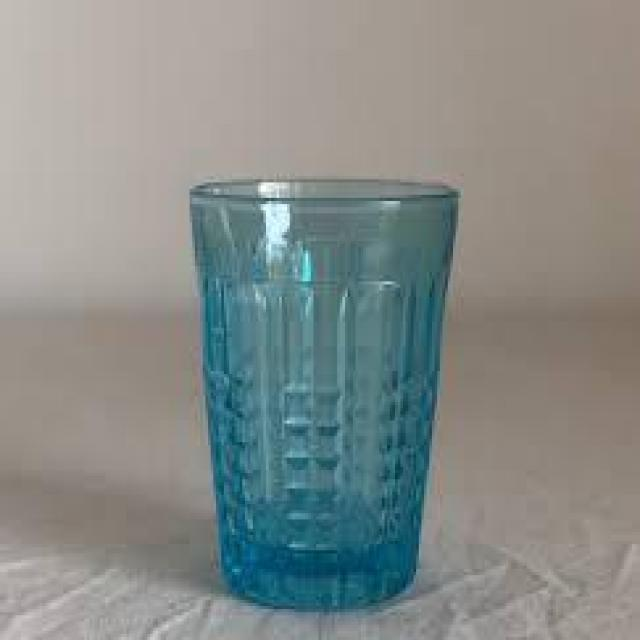glass: (186, 174, 460, 610)
